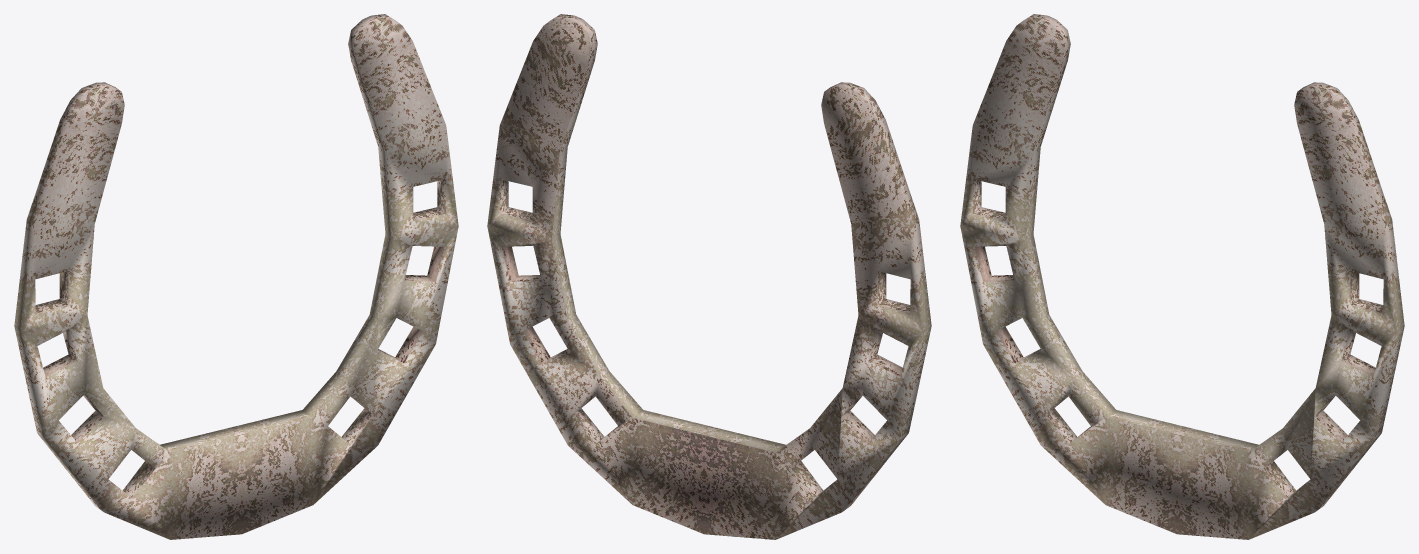
Rendered from Horseshoe2.glb.
3 renders of one model, left to right at view 1: azimuth 30°, elevation 25°; view 2: azimuth 150°, elevation 25°; view 3: azimuth 330°, elevation 25°, orthographic.
Visible parts, largest first — view 1: Horseshoe2; view 2: Horseshoe2; view 3: Horseshoe2.
Part boxes in pixels (left/top/right/bottom): Horseshoe2: left=14, top=14, right=458, bottom=539; Horseshoe2: left=487, top=14, right=931, bottom=539; Horseshoe2: left=960, top=14, right=1404, bottom=539.
Bounding box in the file's own units: 0.1689 × 0.1775 × 0.00724.
Materials: 1 (1 with a texture image).
